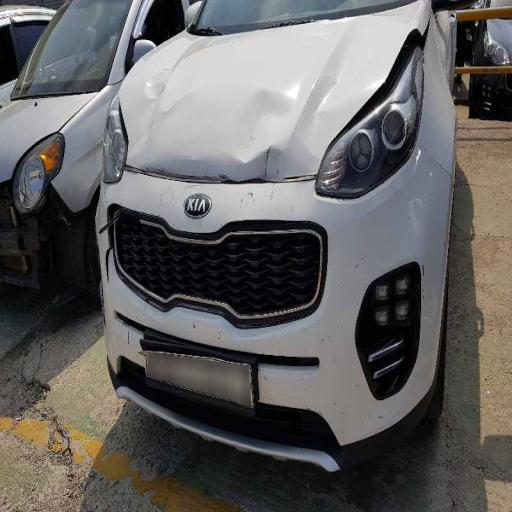broken: (105, 53, 416, 421)
